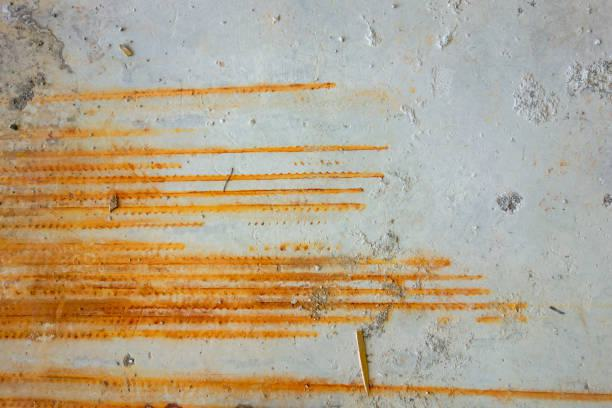Corrosion: (1, 371, 612, 401), (1, 298, 529, 314), (1, 254, 453, 270), (28, 81, 338, 103), (1, 283, 493, 296), (1, 186, 365, 202), (1, 144, 391, 158), (1, 271, 482, 282), (1, 172, 385, 185), (1, 203, 366, 216), (1, 329, 320, 343), (1, 315, 374, 324), (1, 127, 197, 140), (1, 160, 185, 173), (1, 220, 206, 230), (1, 241, 187, 252), (1, 399, 185, 408)
Spalling: (1, 1, 72, 112), (510, 72, 560, 127), (566, 57, 612, 102), (496, 192, 523, 214)
